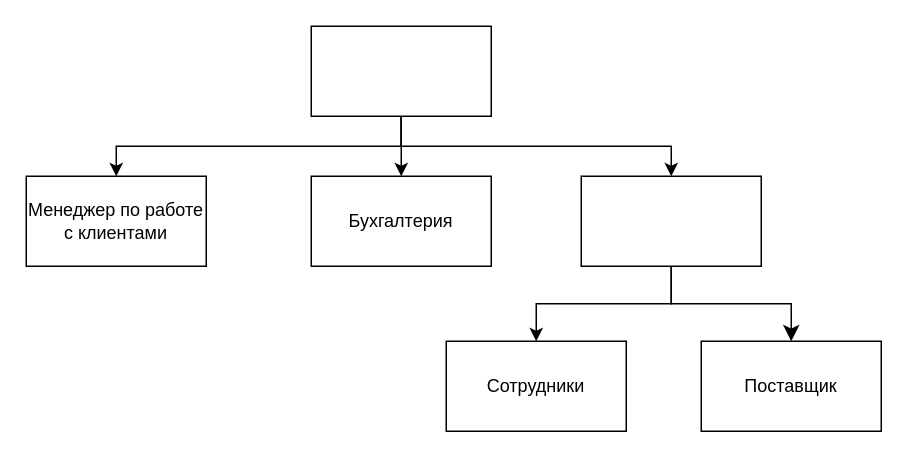
Image size: 908x458. Some labels were removed from this diagram. Each missing label, with the centre of its shape:
"Директор" goes at point (400, 70).
"Менеджер склада" goes at point (670, 220).
